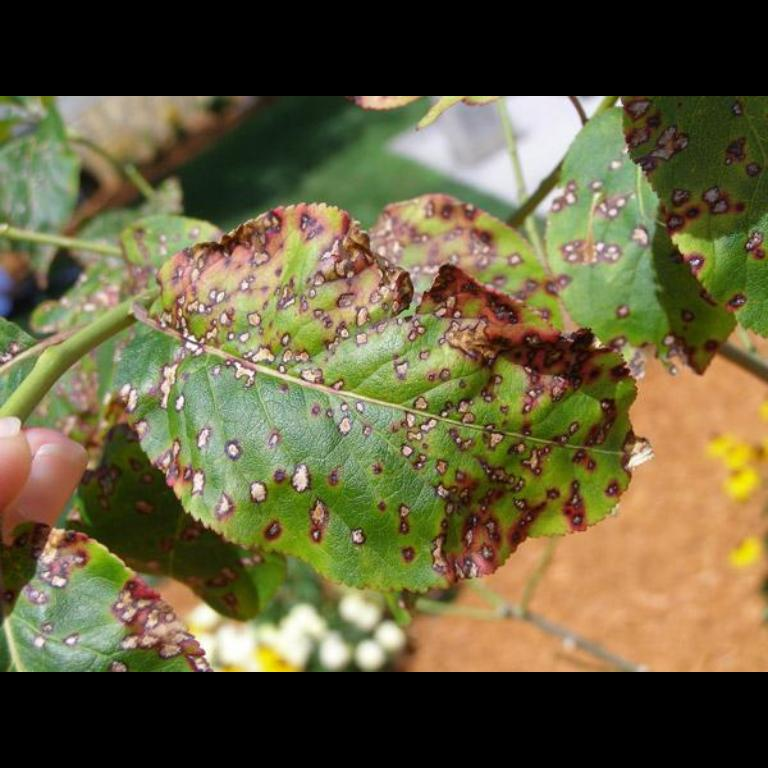blight: (210, 246, 500, 372)
